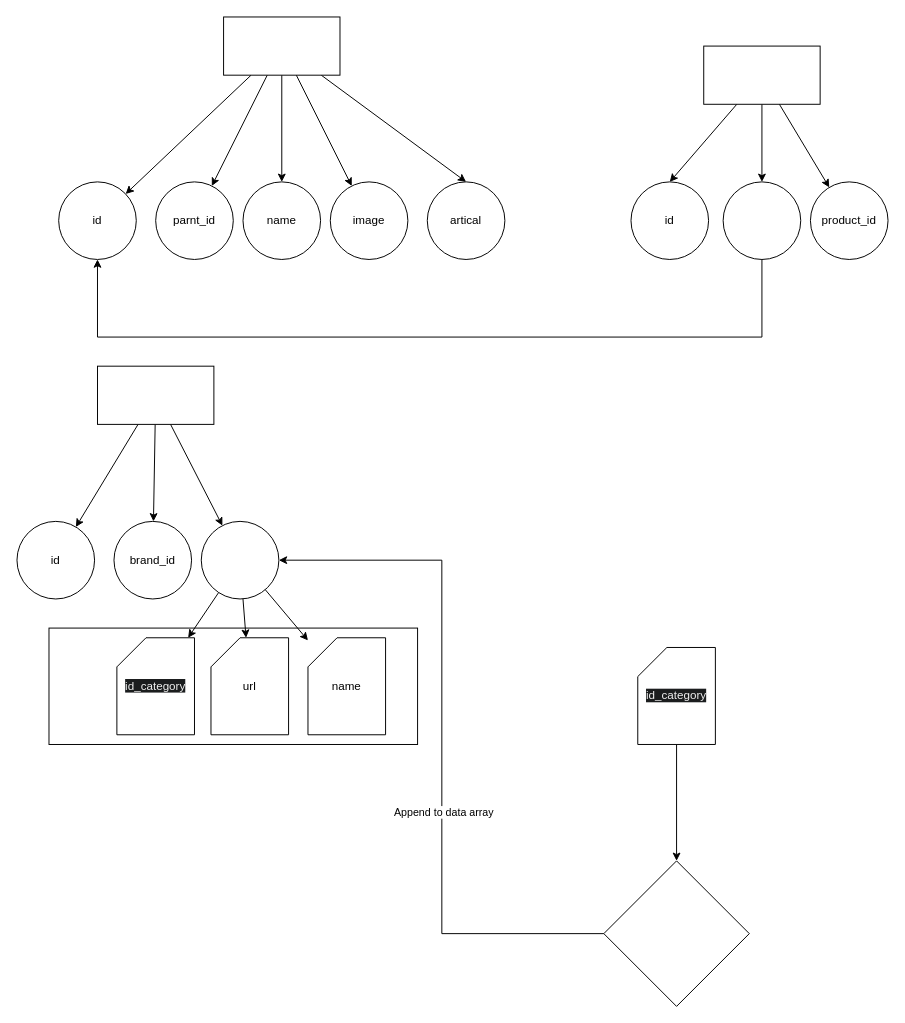
The diagram is 905 pixels wide and 1023 high, and some of its shapes have lost their labels. Here are the shapes that lost their labels. From the top down, the box of each, then its label:
(223, 16, 340, 75): catalog
(703, 45, 820, 104): catalog-products
(722, 181, 801, 259): catalog_id
(97, 365, 214, 424): menu(shop by cat)
(200, 520, 279, 599): Data
(48, 627, 418, 744): Row =>
(603, 860, 749, 1006): has brand id on product
